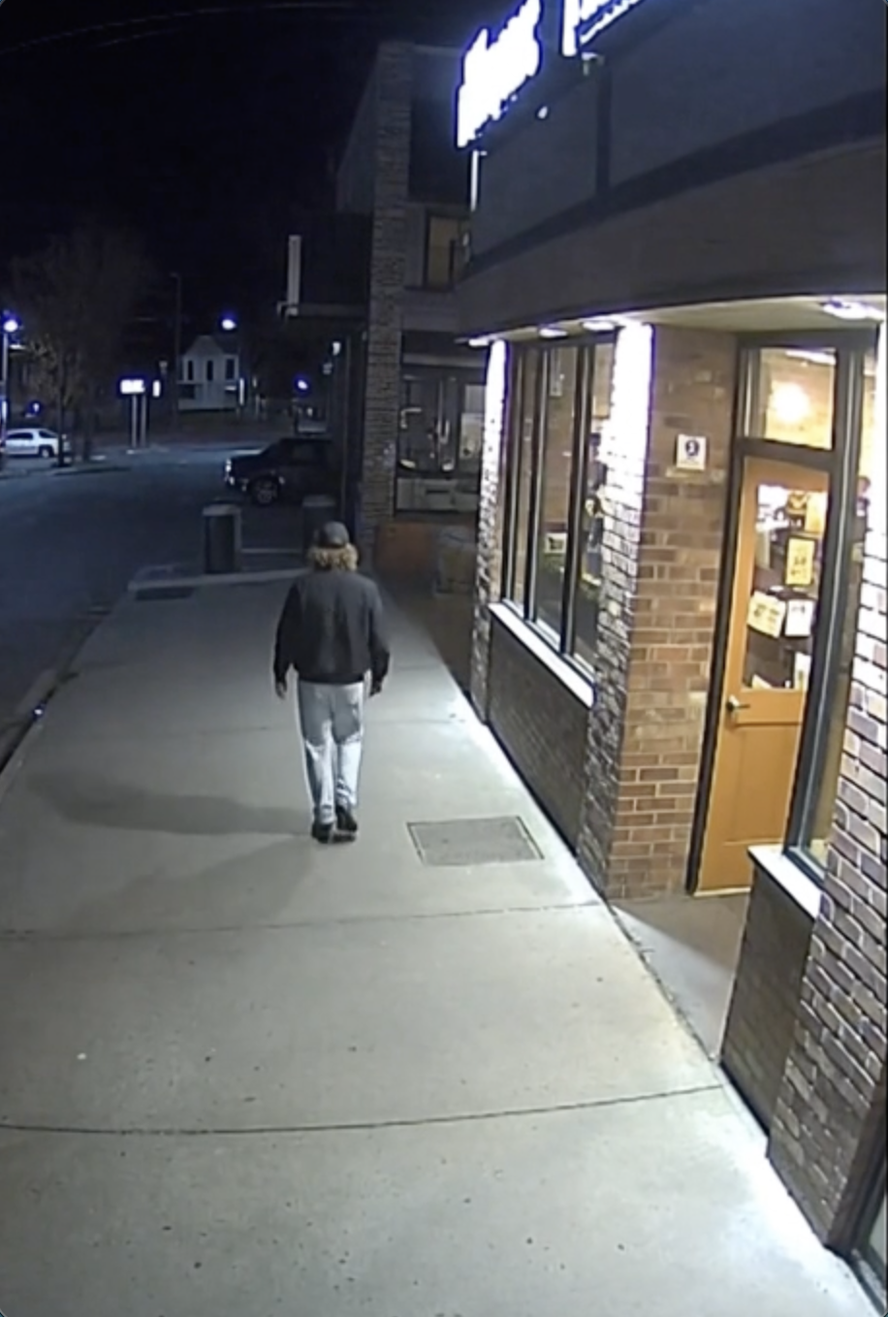Heavy Gun: (265, 521, 392, 853)
